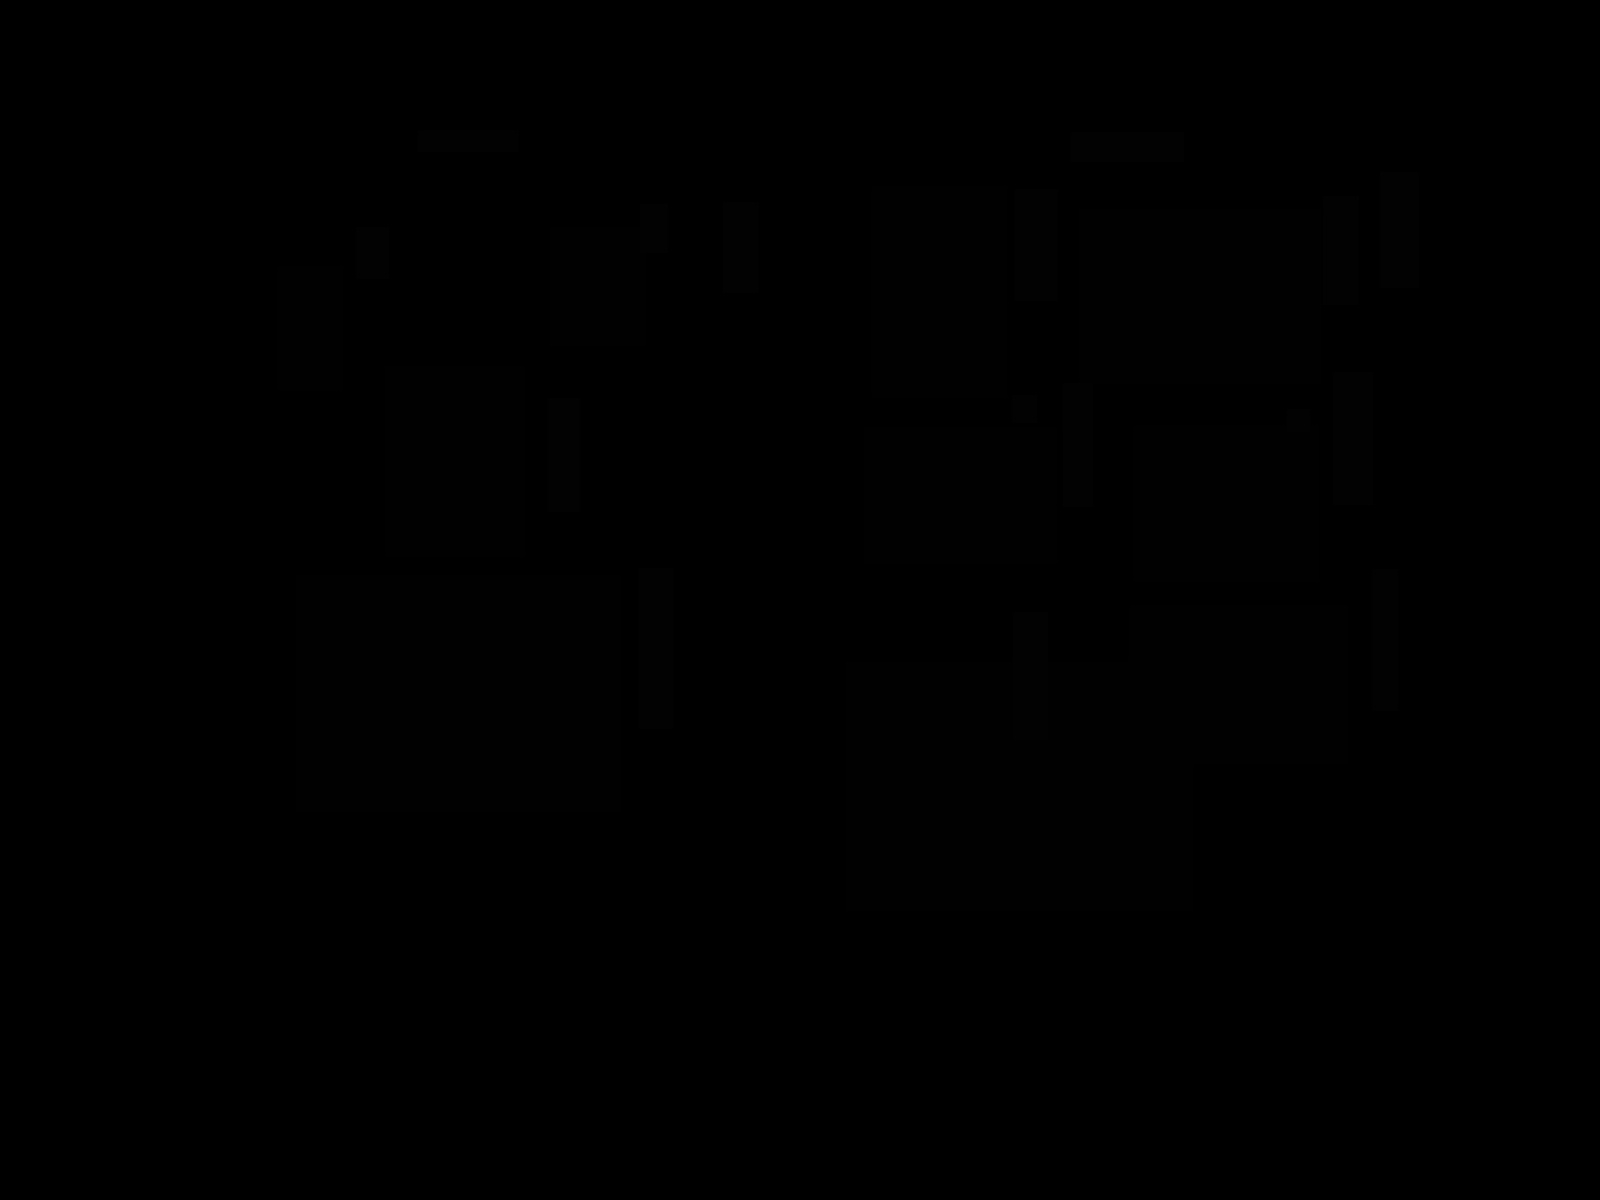1_overall: (74, 57, 1522, 1005)
3_typography: (639, 568, 673, 729), (1333, 372, 1373, 505), (1015, 189, 1058, 301), (1380, 171, 1419, 287), (1013, 613, 1048, 740), (1323, 195, 1359, 305), (1372, 568, 1398, 711), (1063, 383, 1094, 507), (548, 398, 580, 512), (1071, 132, 1184, 163), (723, 202, 758, 292), (418, 130, 519, 153), (357, 227, 389, 279), (640, 204, 668, 253), (1012, 395, 1037, 424), (1288, 408, 1310, 432)
4_illustration: (847, 662, 1193, 911), (296, 575, 621, 812), (1078, 209, 1322, 384), (1129, 605, 1348, 764), (1133, 425, 1319, 582), (871, 187, 1007, 398), (386, 366, 525, 557), (864, 427, 1057, 563), (551, 227, 646, 345), (277, 266, 343, 391)
